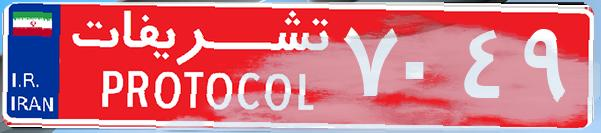0: (400, 20, 460, 115)
4: (460, 20, 520, 115)
7: (340, 20, 400, 115)
9: (520, 20, 580, 115)
تشریفات: (60, 8, 340, 125)
